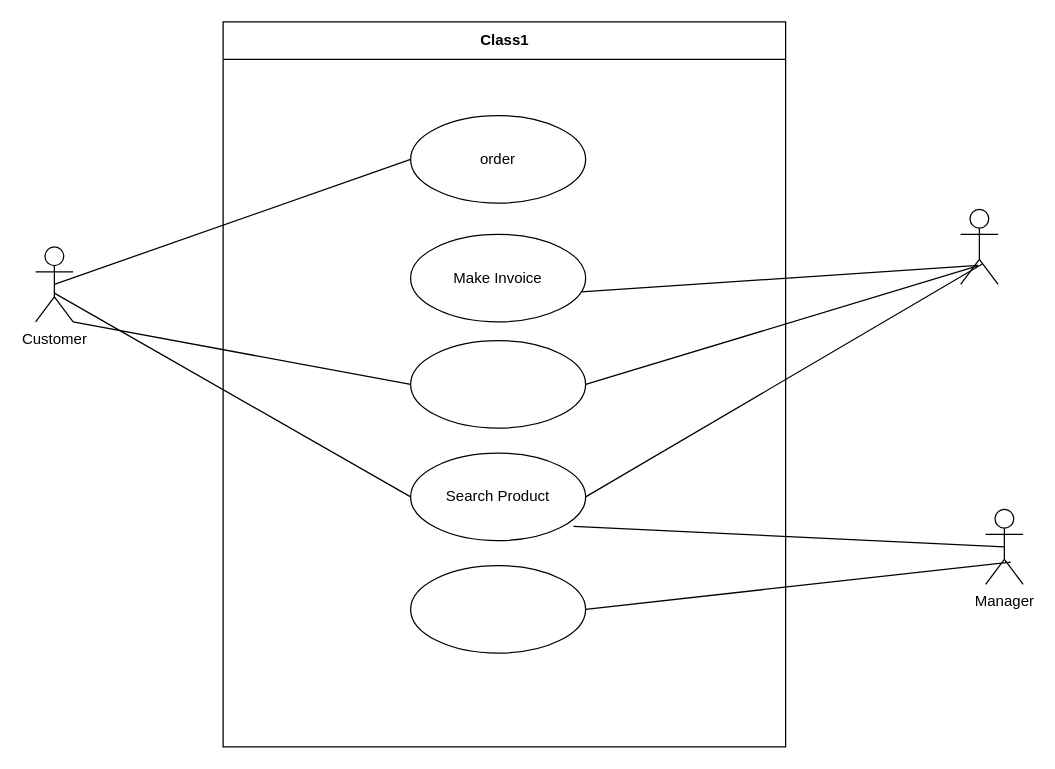
The diagram is 1055 pixels wide and 769 high, and some of its shapes have lost their labels. The shapes that lost their labels are listed below. From the top down, each one's centre as x and y in pixels, then its label:
[978,246]: Seller
[497,383]: Payment
[497,608]: Update/Delete Product
